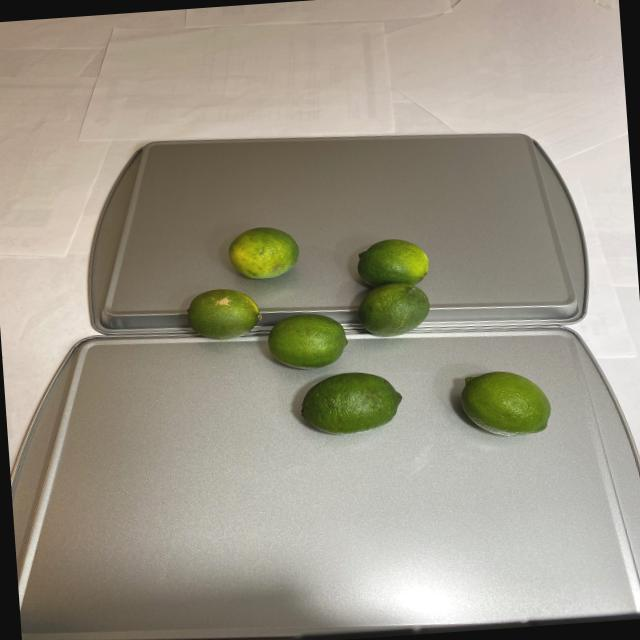lemon: (180, 204, 556, 466)
